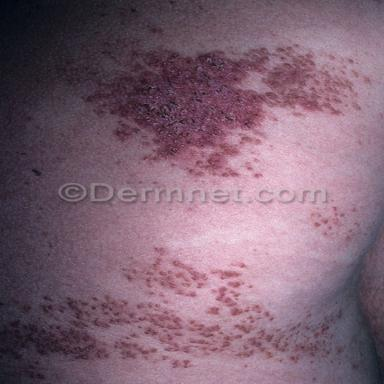Darier_s-Disease: (1, 244, 348, 380), (87, 38, 361, 179), (309, 206, 364, 243)
